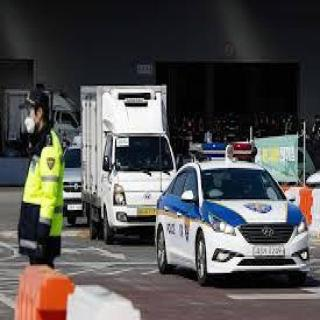Police_car: (154, 145, 310, 281)
